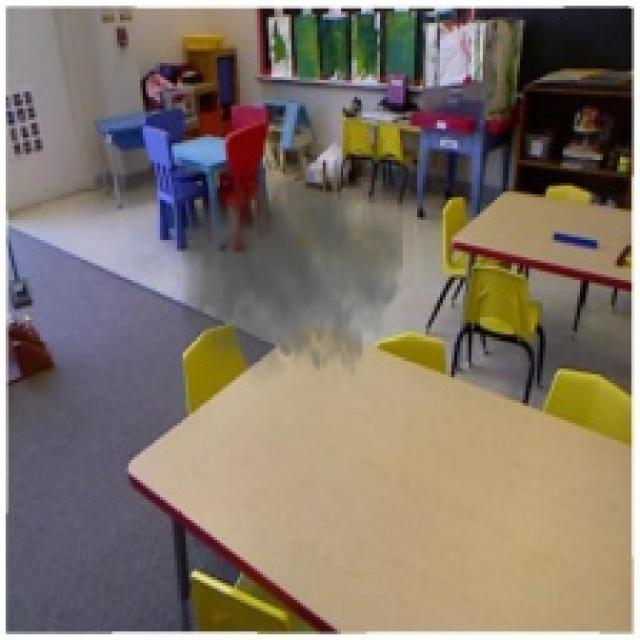smoke: (163, 160, 403, 400)
